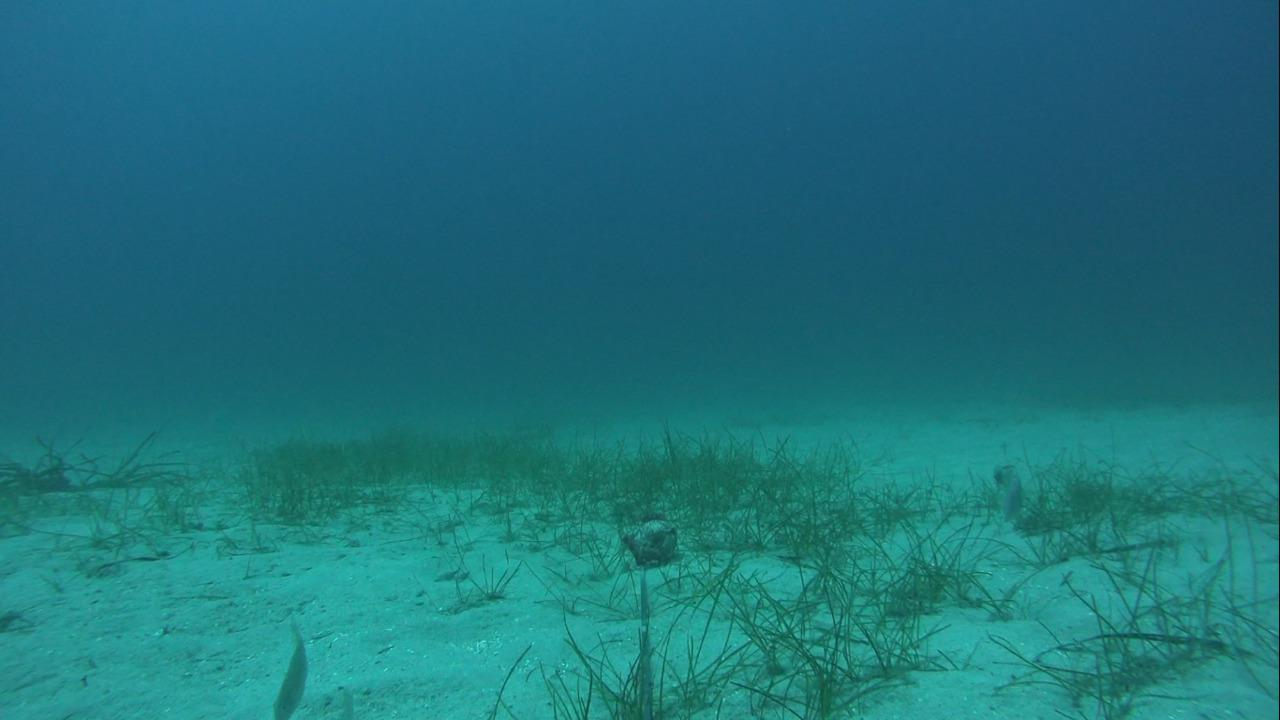raor: (268, 618, 325, 712), (981, 456, 1030, 537)
